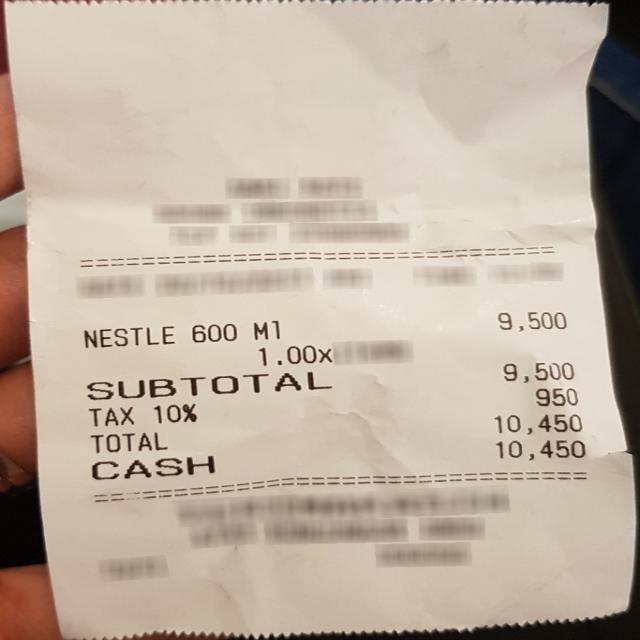text: (85, 370, 332, 399), (90, 456, 213, 480), (82, 324, 174, 347), (496, 439, 588, 459), (493, 414, 580, 433), (258, 343, 332, 365), (89, 431, 166, 452), (501, 361, 572, 382), (497, 309, 564, 330), (86, 405, 131, 425), (189, 322, 235, 341), (152, 402, 195, 422), (534, 388, 576, 405), (252, 319, 278, 339)
